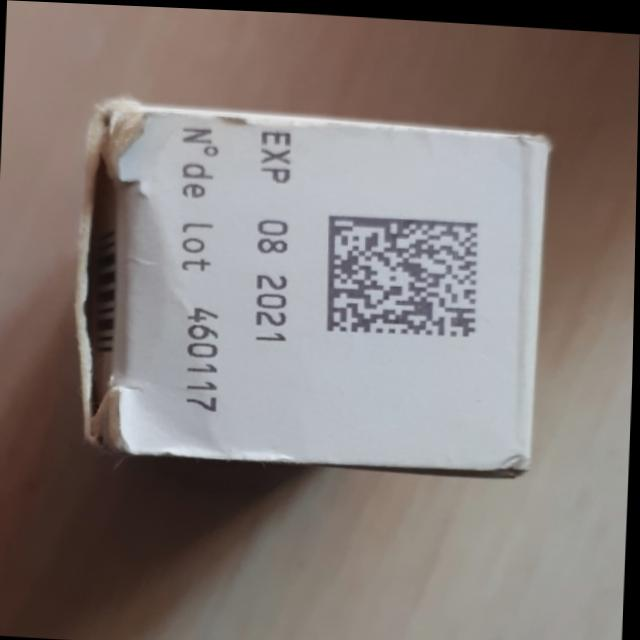datamatrix: (326, 211, 480, 337)
